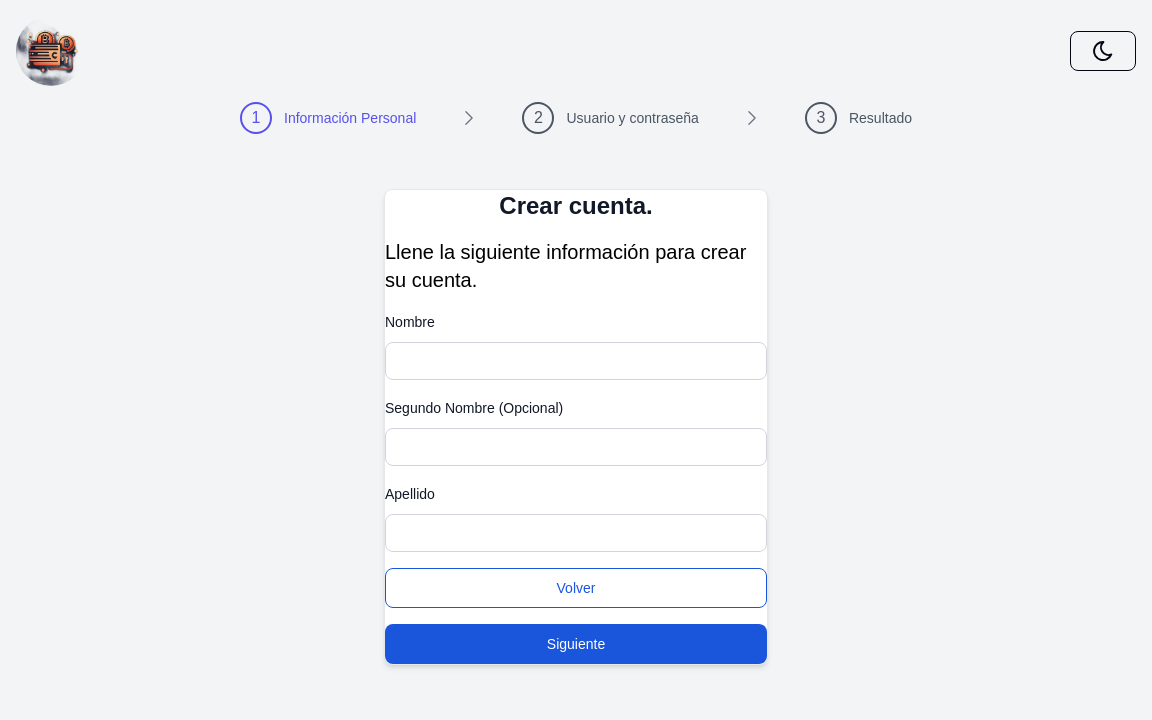
Test: Register › Test creation of user › Given a user registering his user and the email is in use, show error
Type "John" into the field with test id "firstName" at (576, 361), box x1=385 y1=342 x2=767 y2=380
Type "Paul" into the field with test id "middleName" at (576, 447), box x1=385 y1=428 x2=767 y2=466
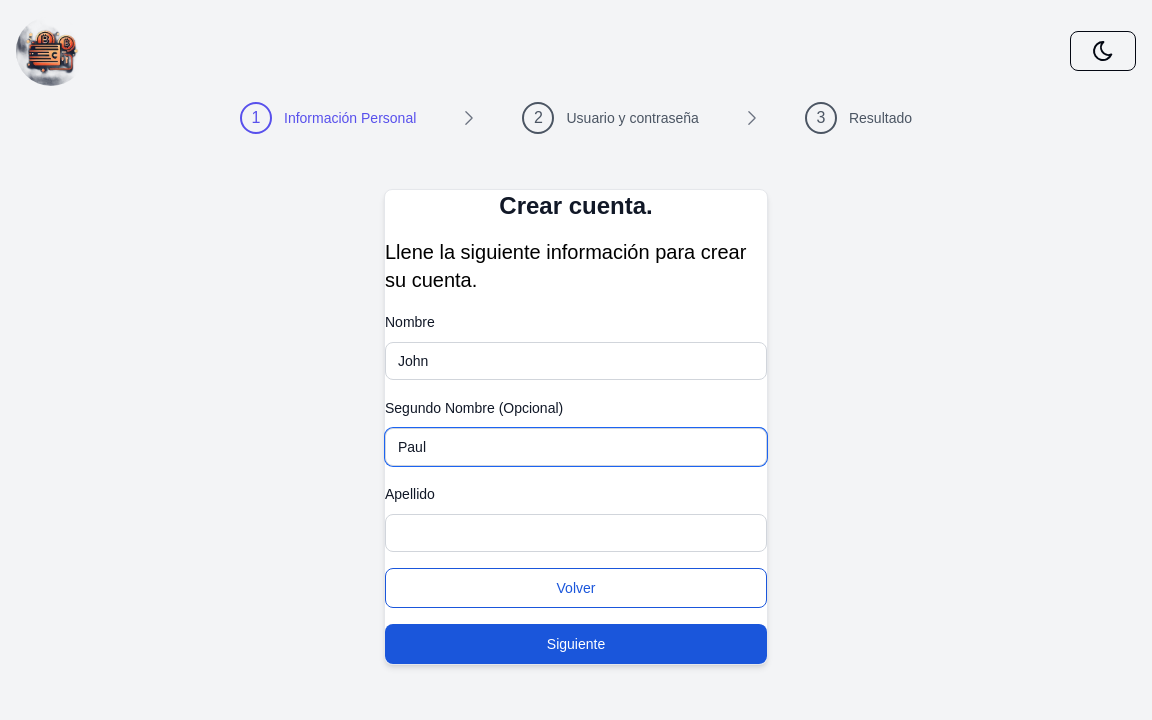
Type "Doe" into the field labelled "Apellido" at (576, 533), box x1=385 y1=514 x2=767 y2=552
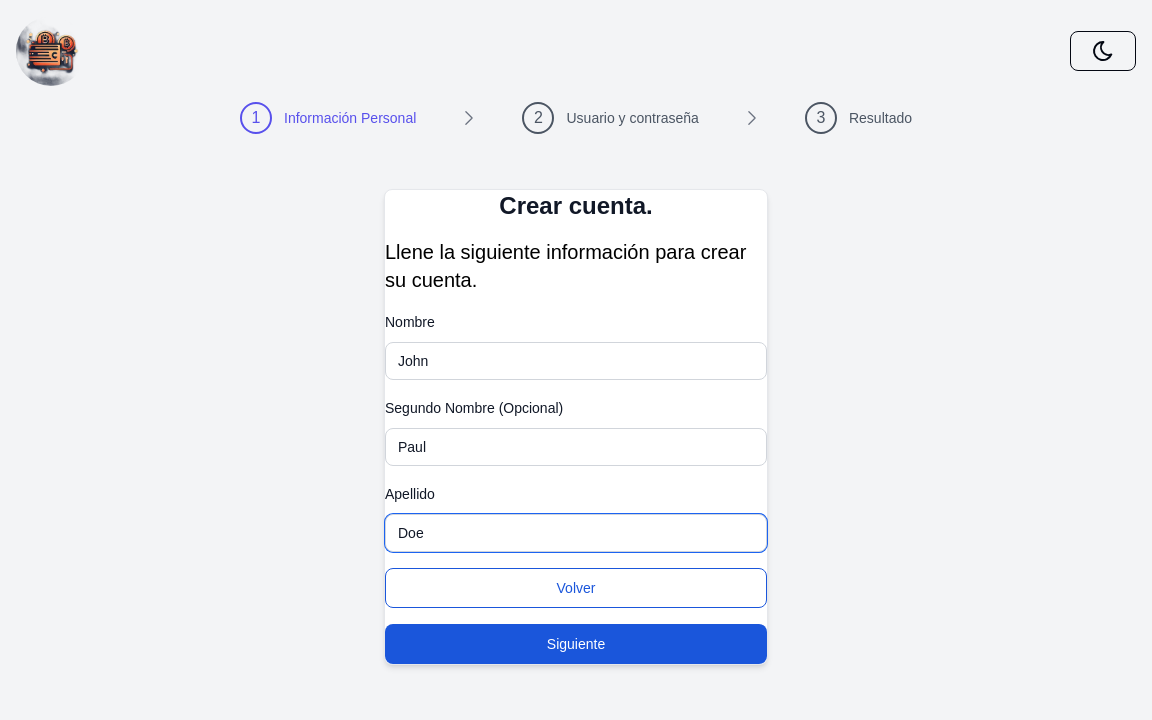
Click the button "Siguiente" at (576, 644), box x1=385 y1=624 x2=767 y2=664
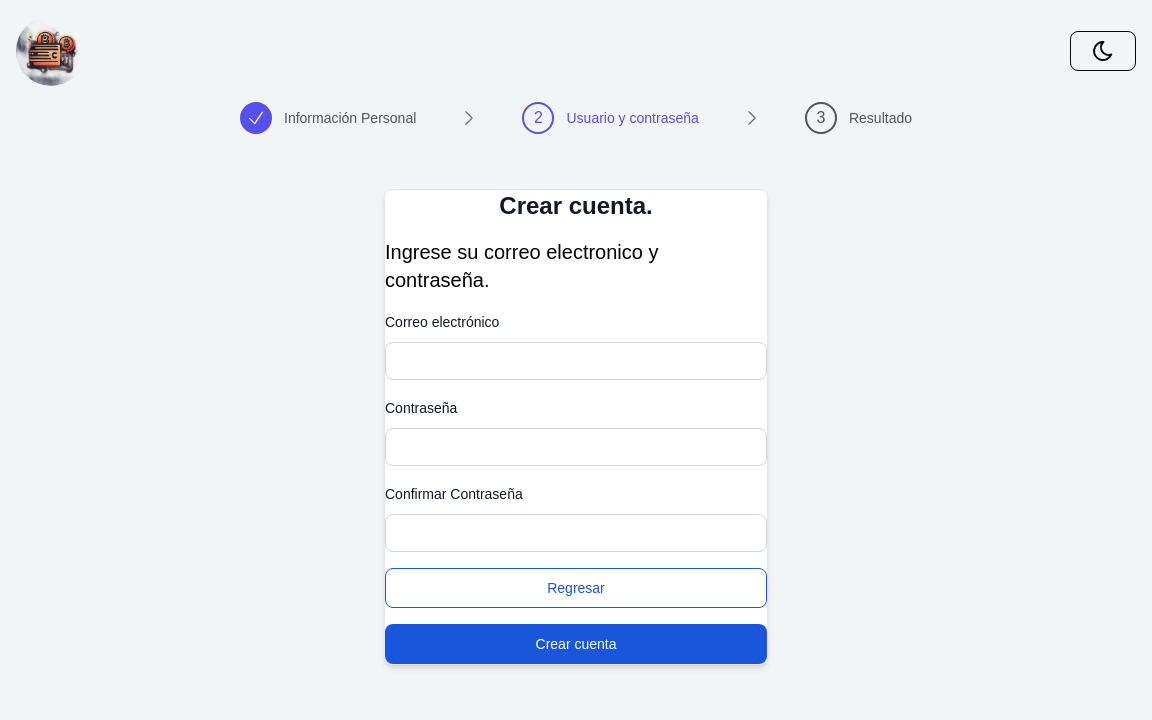
Type "rafa@example.com" into the field labelled "Correo electrónico" at (576, 361), box x1=385 y1=342 x2=767 y2=380
Type "UnaContrase;amuylargaparaminuevacuenta!1" into the password field with test id "password" at (576, 447), box x1=385 y1=428 x2=767 y2=466
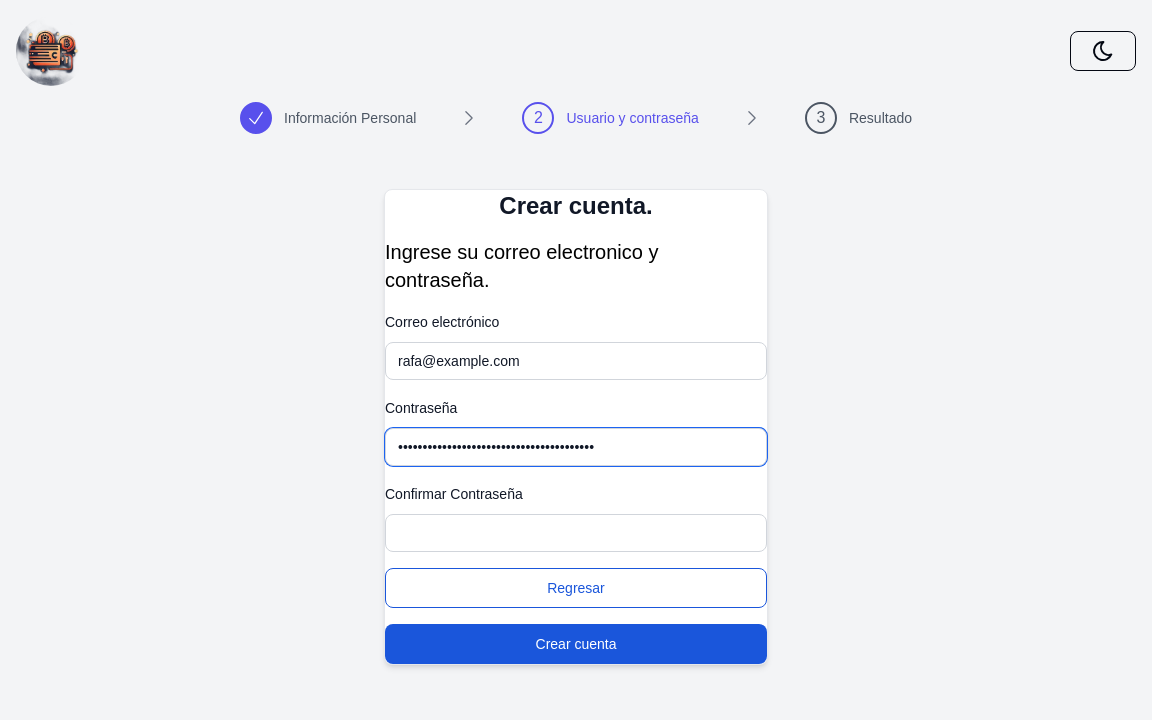
Type "UnaContrase;amuylargaparaminuevacuenta!1" into the password field with test id "confirmPassword" at (576, 533), box x1=385 y1=514 x2=767 y2=552
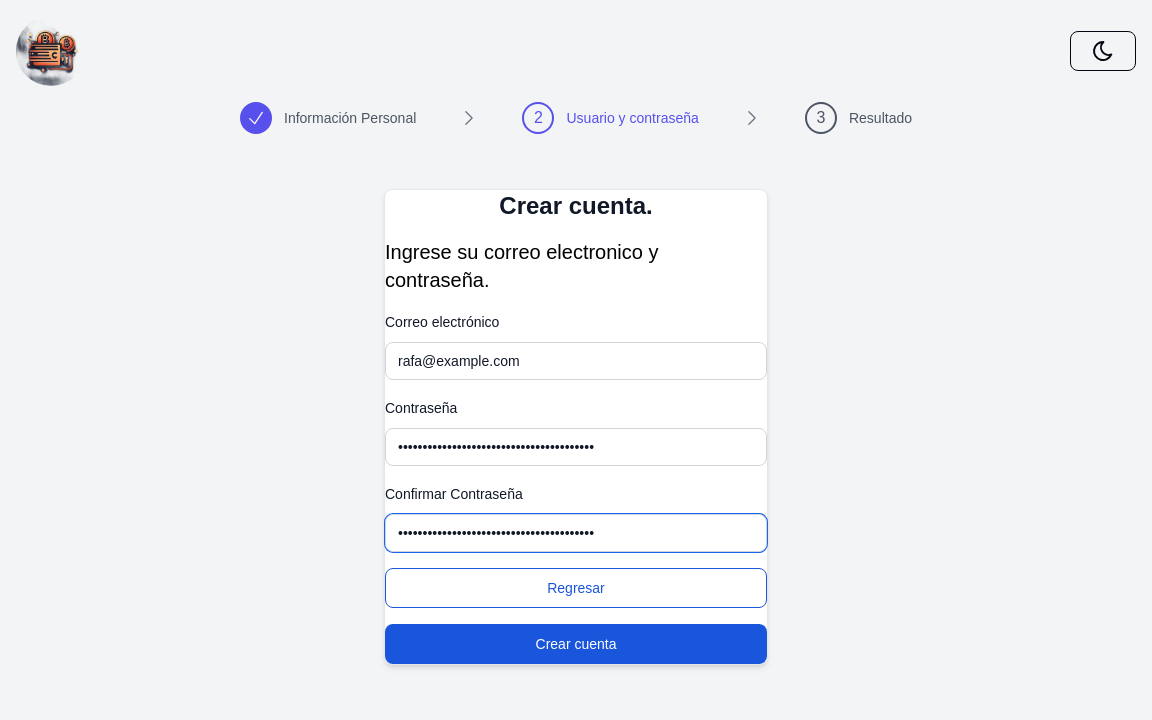
Click the button "Crear cuenta" at (576, 644), box x1=385 y1=624 x2=767 y2=664
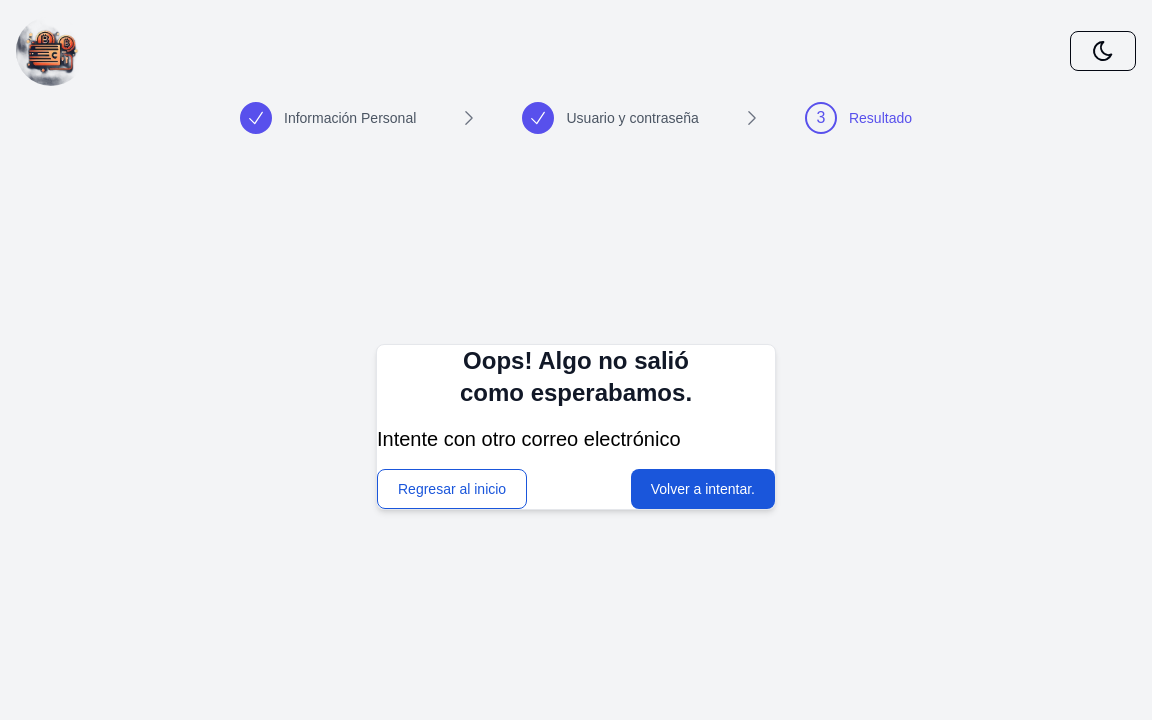
expect the heading "Oops! Algo no salió como esperabamos." is shown: met, box x1=460 y1=347 x2=692 y2=406
expect the text "Intente con otro correo electrónico" is shown: met, box x1=377 y1=428 x2=680 y2=450
expect the link "Regresar al inicio" is shown: met, box x1=377 y1=469 x2=527 y2=509
